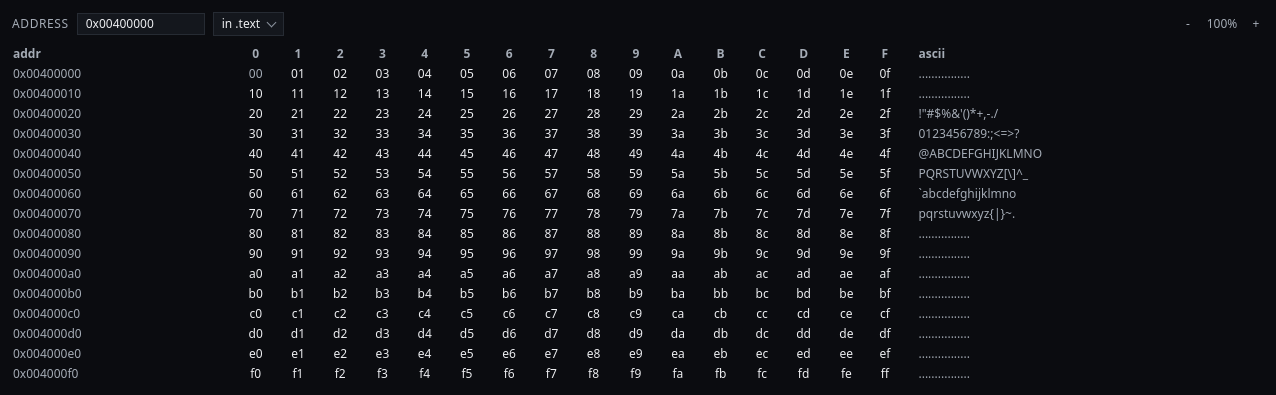
Test case: MemoryPanel region label › lands the stack jump on the row holding a live sp
Click the dropdown named "jump to section" at [248, 24], box [213,12,284,36]
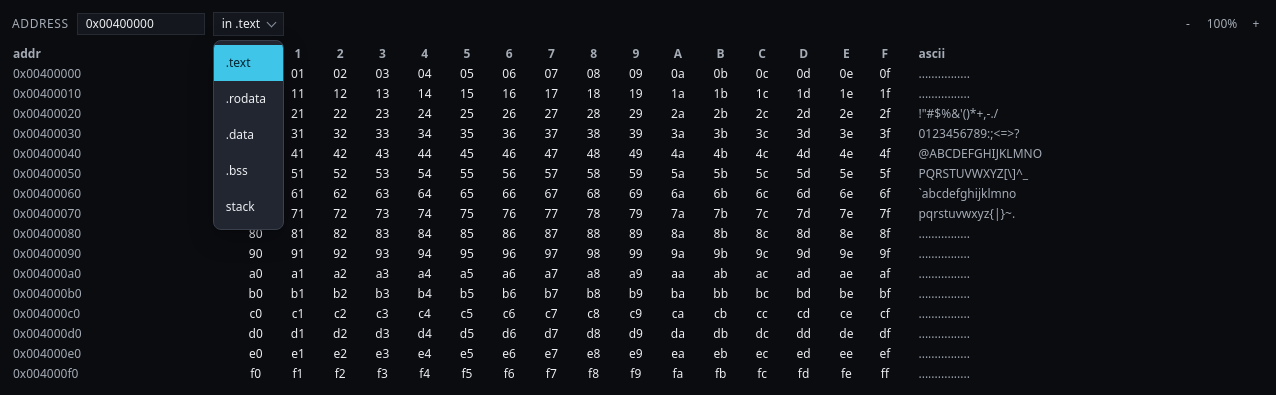
Press the mouse on the option "stack" at [240, 206], box [226,198,255,215]
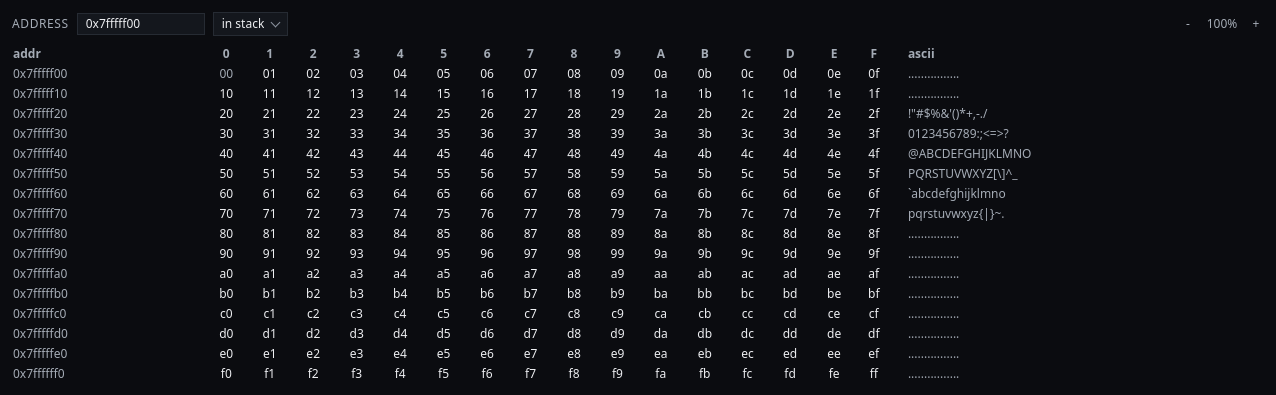
Now the field named "memory base address" holds "0x7fffff00", box [77,13,205,35]
Now the dropdown named "jump to section" reads "in stack", box [213,12,288,36]
